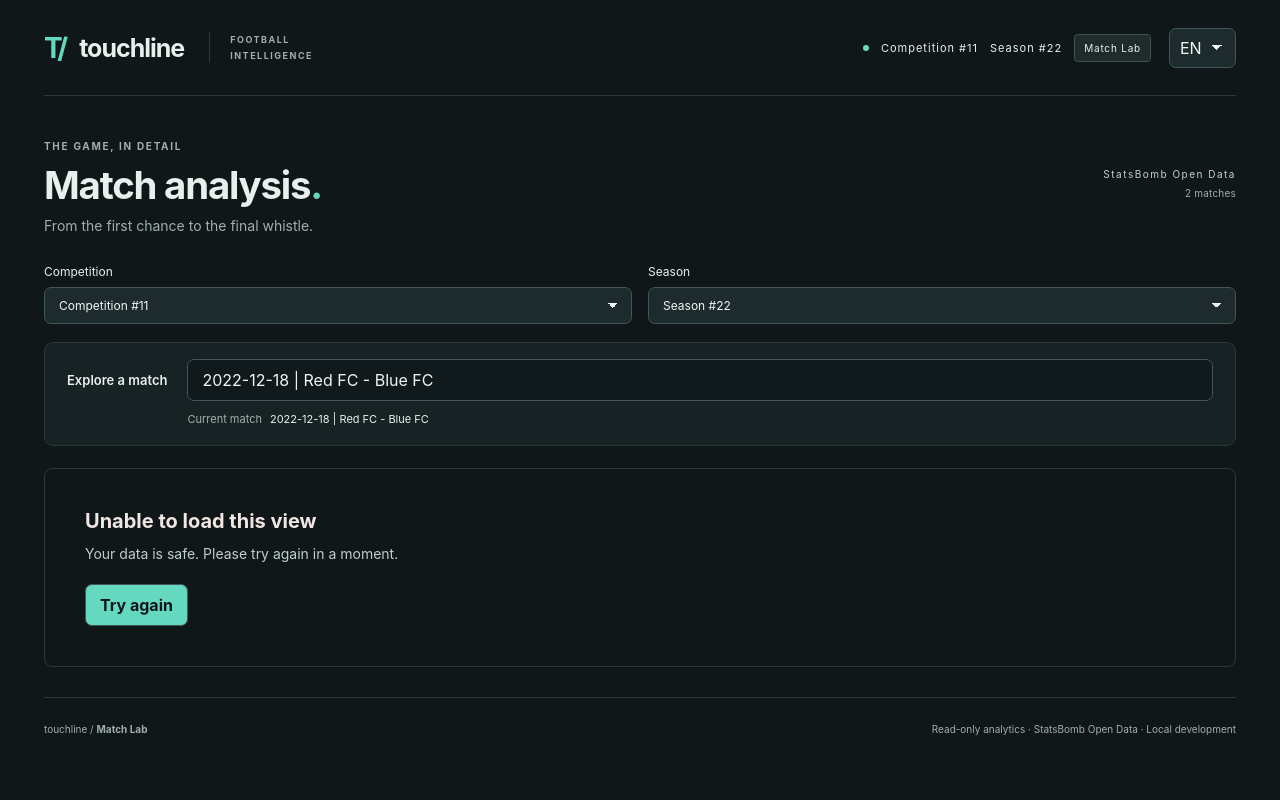
Test: translates current error without losing it and retry remains functional
This screenshot has width=1280, height=800.
Check: the message is shown, box [44, 468, 1236, 667]
Select "ES" in the dropdown with test id "language-selector" at (1202, 48), box [1169, 28, 1236, 68]
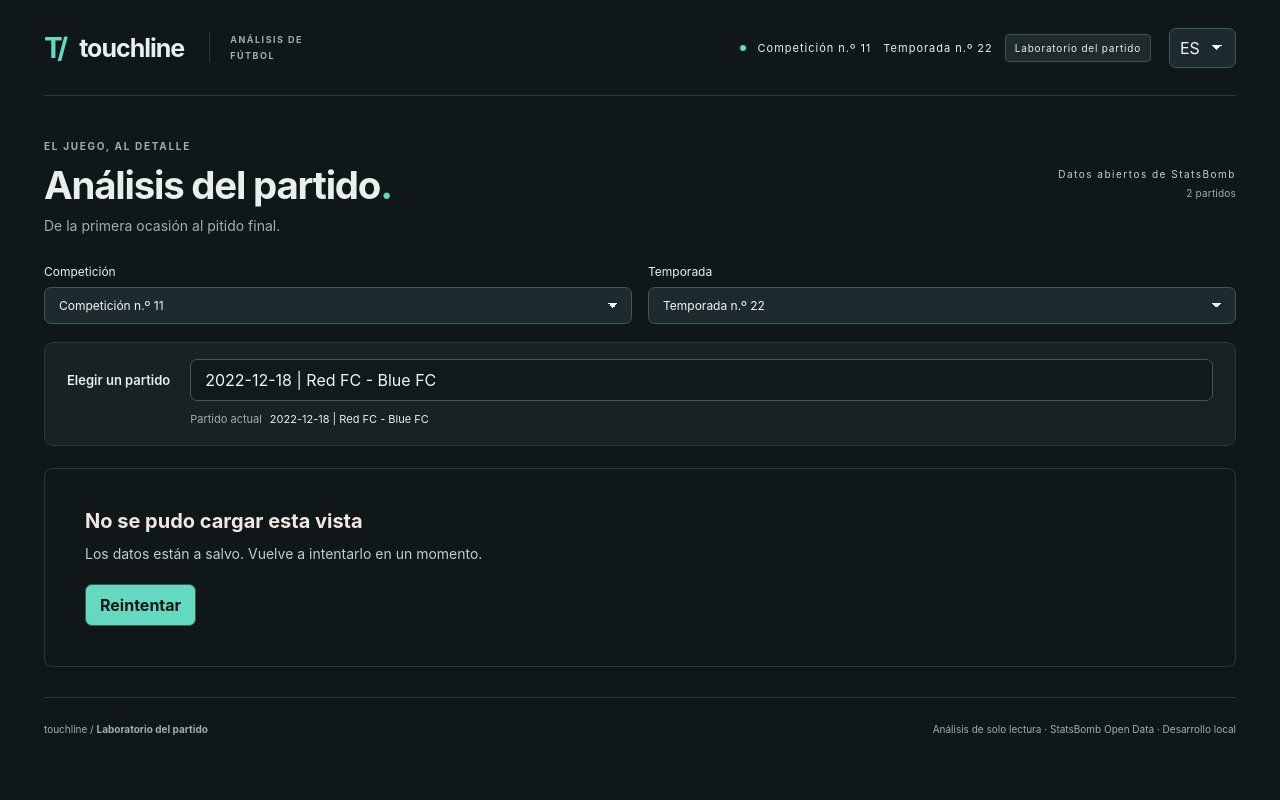
Check: the message shows "No se pudo cargar", box [85, 509, 363, 533]
Click the button "Reintentar" at (141, 605), box [85, 584, 196, 626]
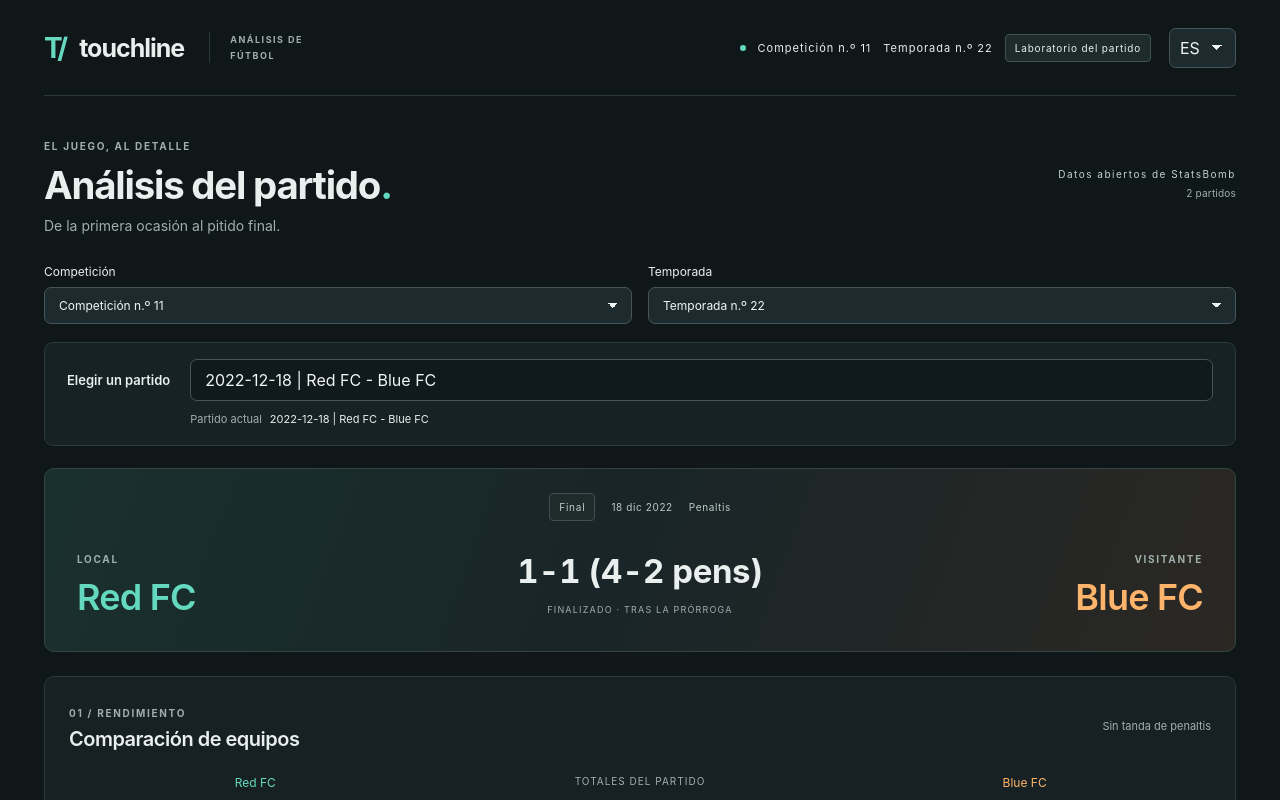
Check: the element with test id "match-header" is shown, box [44, 468, 1236, 652]
